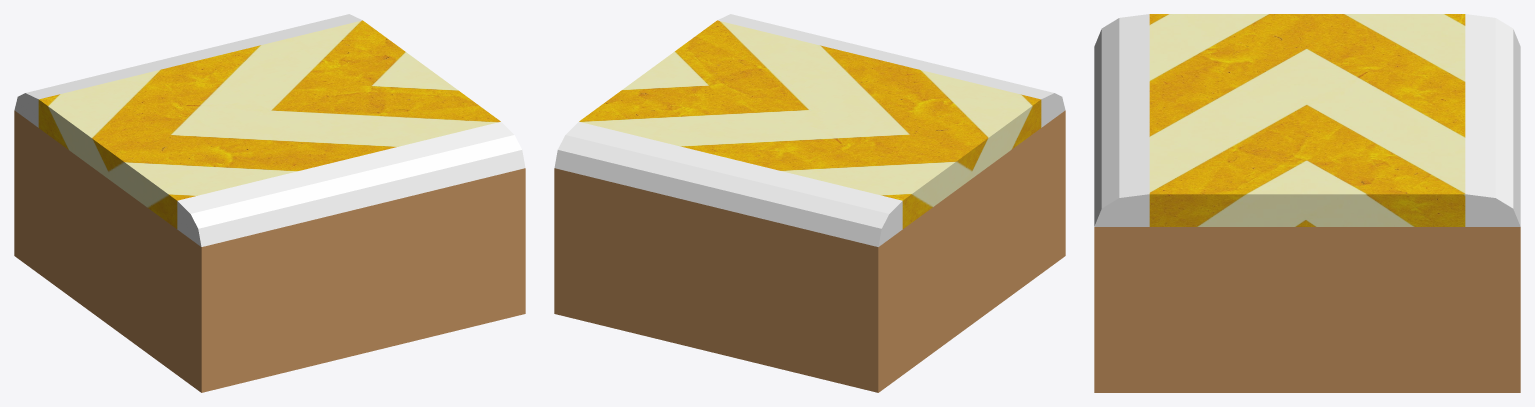
The model's file is Conveyor_Moving_Seperate.fbx.
3 renders of one model, left to right at view 1: azimuth 30°, elevation 25°; view 2: azimuth 150°, elevation 25°; view 3: azimuth 270°, elevation 25°, orthographic. The views are drawn at different scales.
Parts seen in each view (by area): view 1: Base, Surface; view 2: Base, Surface; view 3: Base, Surface.
Part boxes in pixels (bbox=[...]): Base: bbox=[14, 14, 525, 392]; Surface: bbox=[38, 20, 500, 228]; Base: bbox=[554, 14, 1065, 392]; Surface: bbox=[579, 20, 1041, 228]; Base: bbox=[1094, 14, 1520, 392]; Surface: bbox=[1149, 14, 1465, 226].
Bounding box in the file's own units: 1 × 0.5145 × 1.
